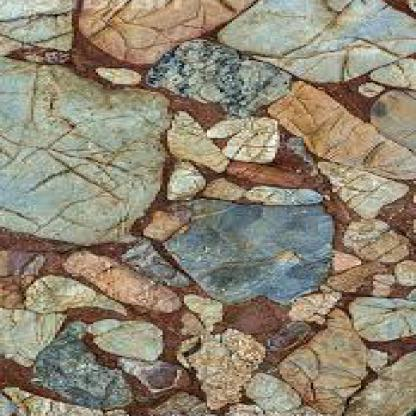Metamorphic_Quartize: (2, 52, 177, 250), (148, 195, 347, 300), (203, 0, 415, 90), (148, 40, 299, 114)
